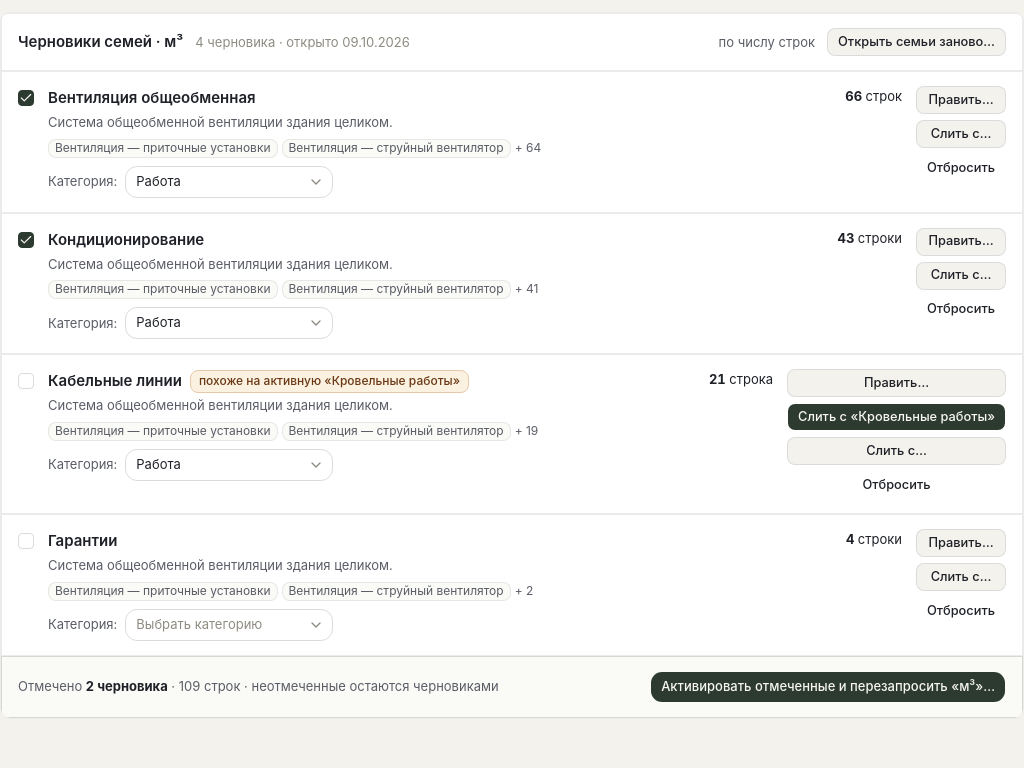
Test: DiscoveryDrafts — активация › ничего не отмечено — кнопка недоступна, запроса нет
Step 1. Click the checkbox named "Отметить черновик" → [26, 98], box [18,90,34,106]
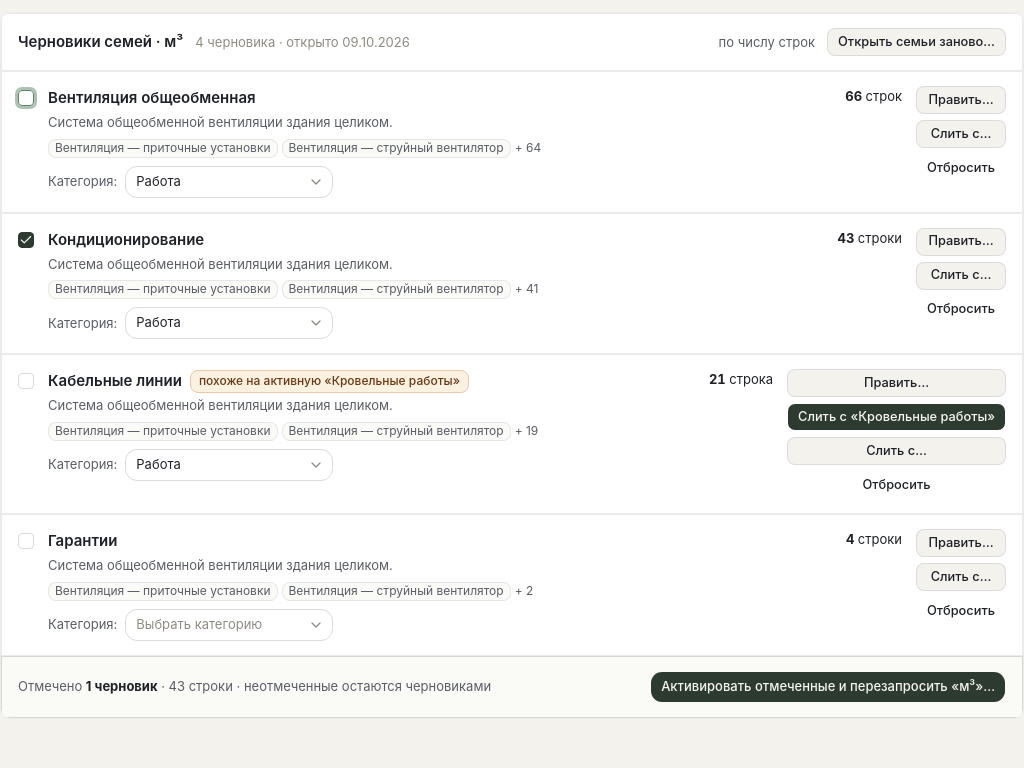
Step 2. Click the checkbox named "Отметить черновик" → [26, 240], box [18,232,34,248]
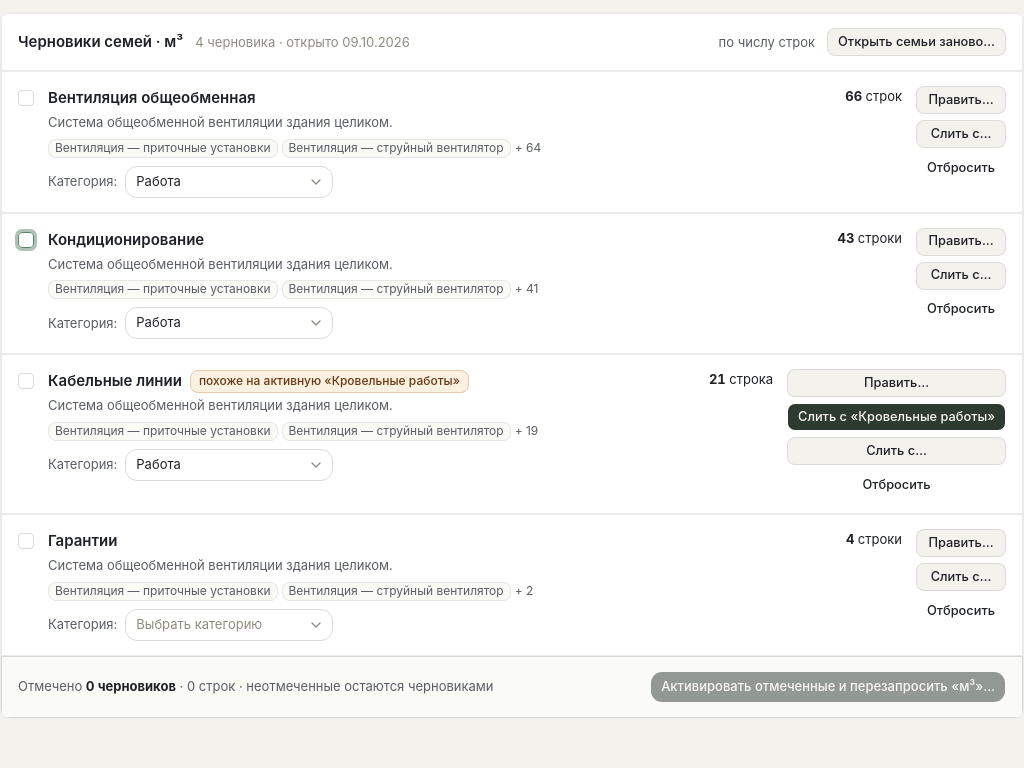
Expected: the element with test id "discovery-counter" shows "Отмечено 0 черновиков · 0 строк", [18,676,494,697]
Expected: the button "Активировать отмеченные и перезапросить «м³»…" is disabled, [650,671,1006,703]
